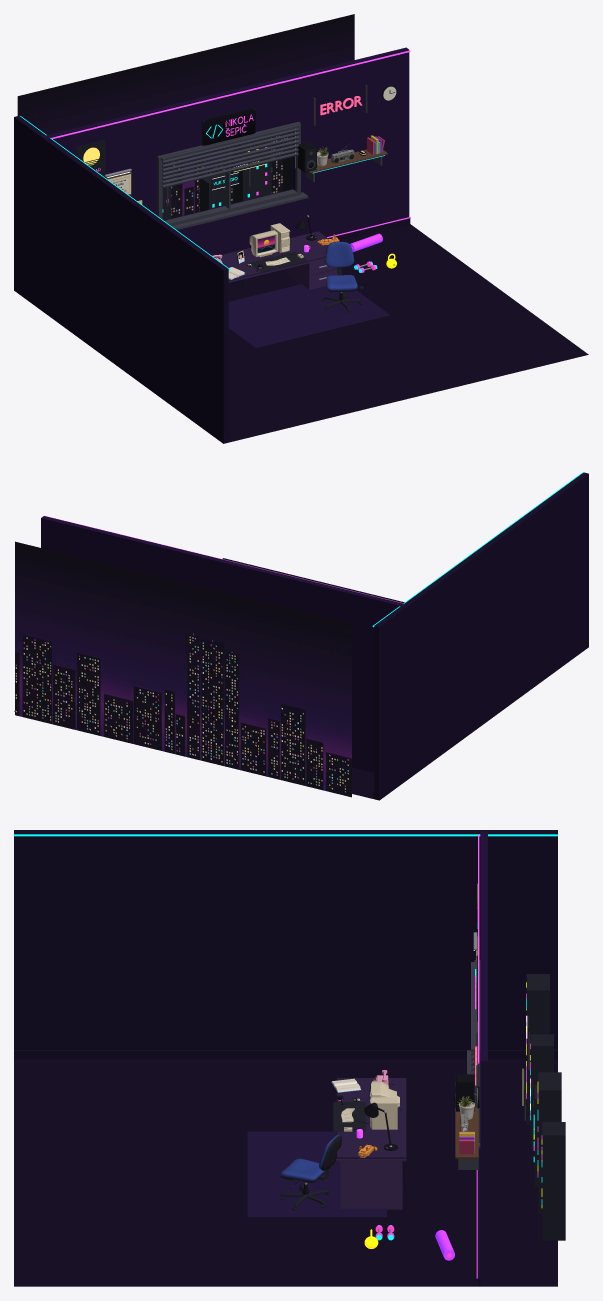
File: room.glb
3 renders of one model, top to bottom at view 1: azimuth 30°, elevation 25°; view 2: azimuth 150°, elevation 25°; view 3: azimuth 270°, elevation 25°, orthographic. The views are drawn at different scales.
Visible parts, largest first — view 1: wall_left, floor, window, wall_back_right, rug, wall_back_top, wall_back_left, blinds, wall_back_bottom, window_frame, towers, desk_top (+7 smaller); view 2: window, wall_left, wall_back_left, wall_back_top, wall_back_right, floor; view 3: wall_left, floor, towers, rug, skirting_left, desk_leg_r, desk_top, wall_back_right, chair, ceiling_strip_left, window_frame, desk_mat (+5 smaller).
Boxes of the visible parts, x1,y1,x2,y2 form: wall_left: (14, 116, 228, 443); floor: (228, 224, 588, 441); window: (17, 14, 354, 218); wall_back_right: (292, 47, 409, 236); rug: (228, 284, 389, 348); wall_back_top: (158, 75, 295, 155); wall_back_left: (44, 108, 160, 215); blinds: (161, 124, 300, 188); wall_back_bottom: (164, 189, 295, 255); window_frame: (157, 121, 308, 229); towers: (162, 138, 292, 220); desk_top: (214, 231, 328, 281); window: (15, 541, 351, 797); wall_left: (374, 472, 588, 800); wall_back_left: (289, 576, 406, 772); wall_back_top: (155, 544, 292, 608); wall_back_right: (41, 516, 157, 575); floor: (14, 558, 404, 798); wall_left: (14, 830, 557, 1049); floor: (14, 1059, 557, 1286); towers: (526, 974, 565, 1240); rug: (247, 1131, 386, 1217); skirting_left: (14, 1050, 557, 1059); desk_leg_r: (340, 1161, 402, 1209); desk_top: (336, 1078, 406, 1159); wall_back_right: (480, 989, 487, 1286); chair: (279, 1135, 341, 1210); ceiling_strip_left: (14, 834, 557, 836); window_frame: (467, 960, 480, 1148); desk_mat: (333, 1102, 365, 1131).
Bounding box in the file's own units: 7.05 × 3.35 × 7.4.
56 materials, 7 textured.
